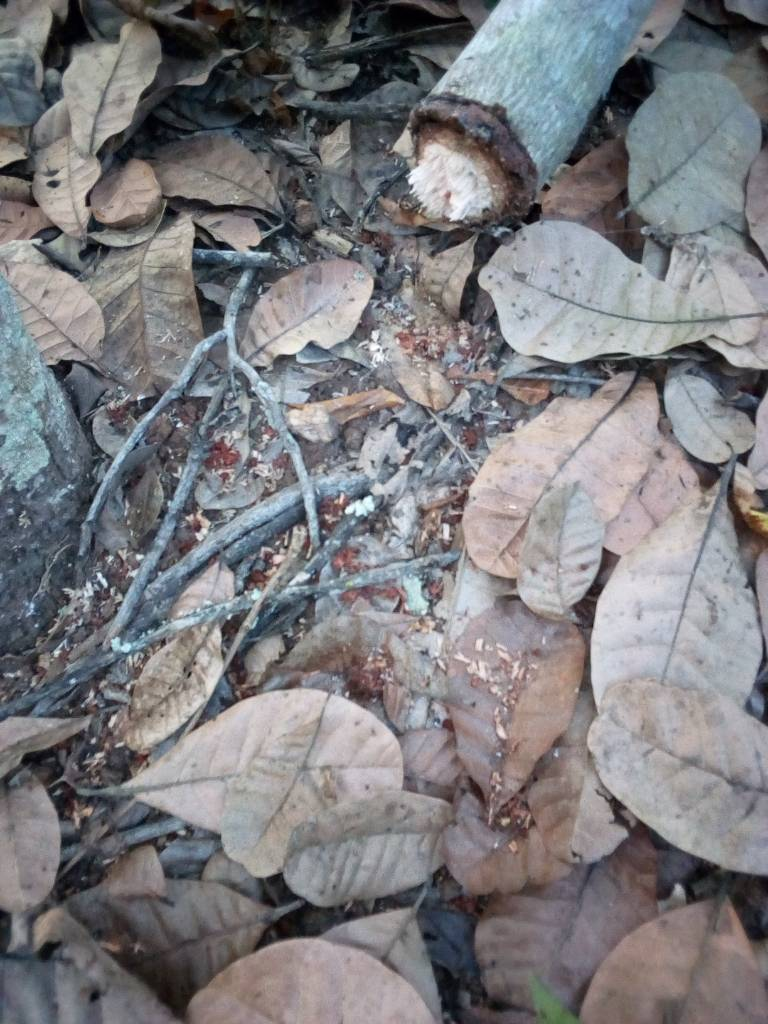Analepse trifasciata: (377, 91, 557, 255)
